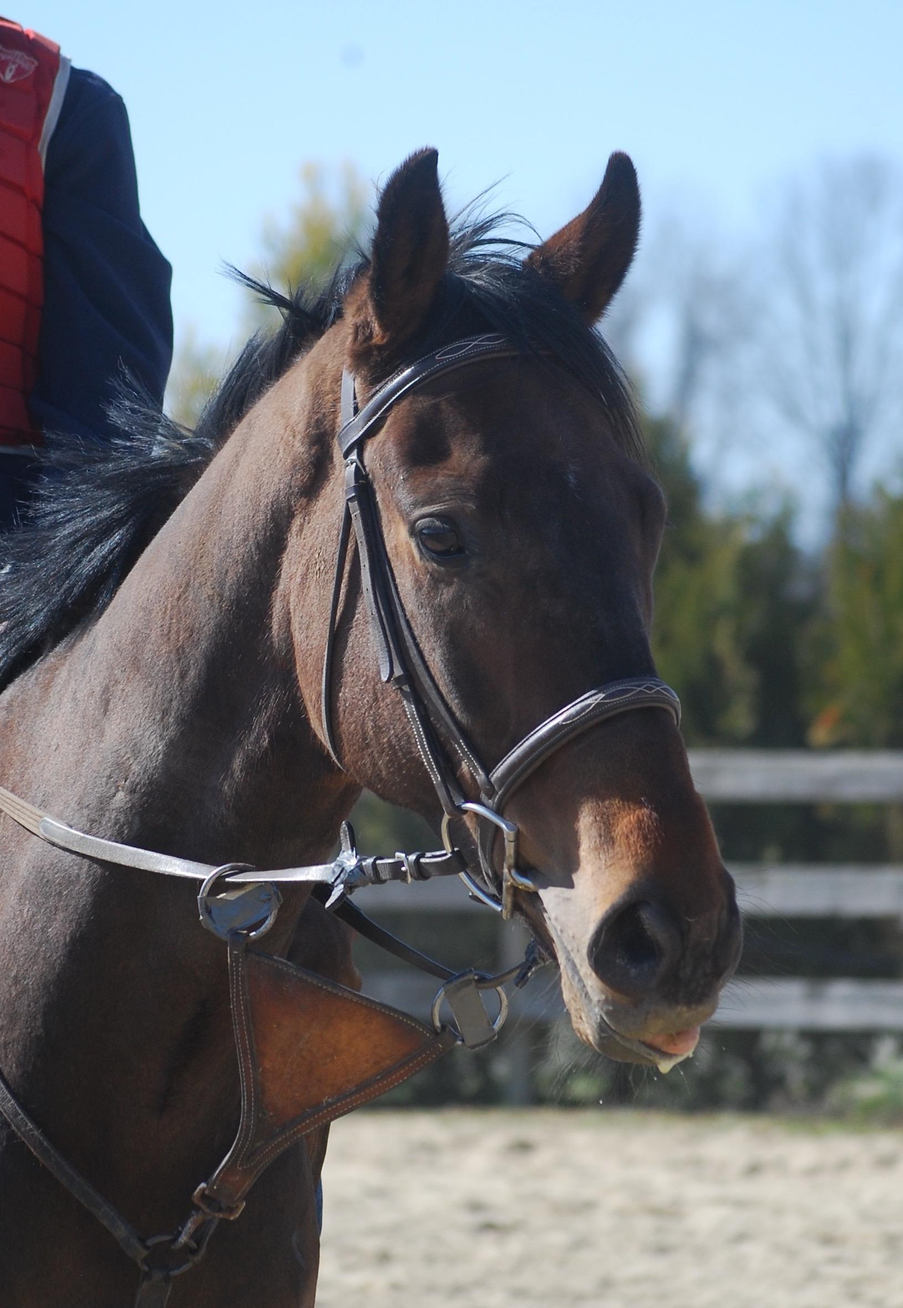horse: (0, 128, 751, 1308)
